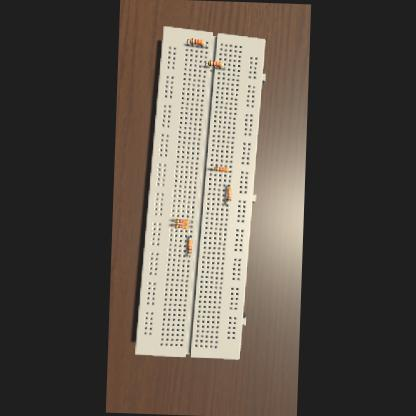breadboard: (134, 24, 266, 358)
resistor: (190, 38, 204, 45), (174, 218, 188, 224), (174, 222, 188, 228), (208, 60, 222, 66), (187, 239, 192, 254), (214, 166, 229, 171), (226, 186, 230, 200)
wire: (186, 39, 190, 45), (204, 62, 208, 66), (204, 42, 206, 48), (222, 64, 224, 69), (171, 224, 174, 226), (171, 219, 174, 221), (211, 167, 214, 169), (226, 201, 228, 204), (228, 184, 230, 186), (228, 168, 230, 170), (188, 225, 191, 226), (188, 220, 191, 221), (188, 254, 189, 256), (190, 235, 190, 238)
